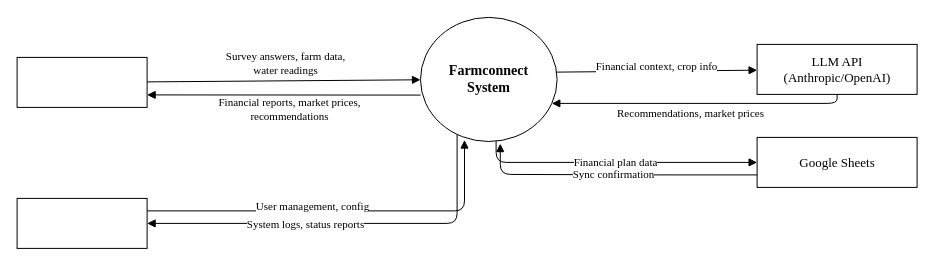
Image size: 935x266. Some labels were removed from this diagram. The box of each missing label's shape, as (x1, y1, x2, y2) in pixels:
Admin: (16, 197, 147, 248)
Farmer: (16, 56, 147, 107)
